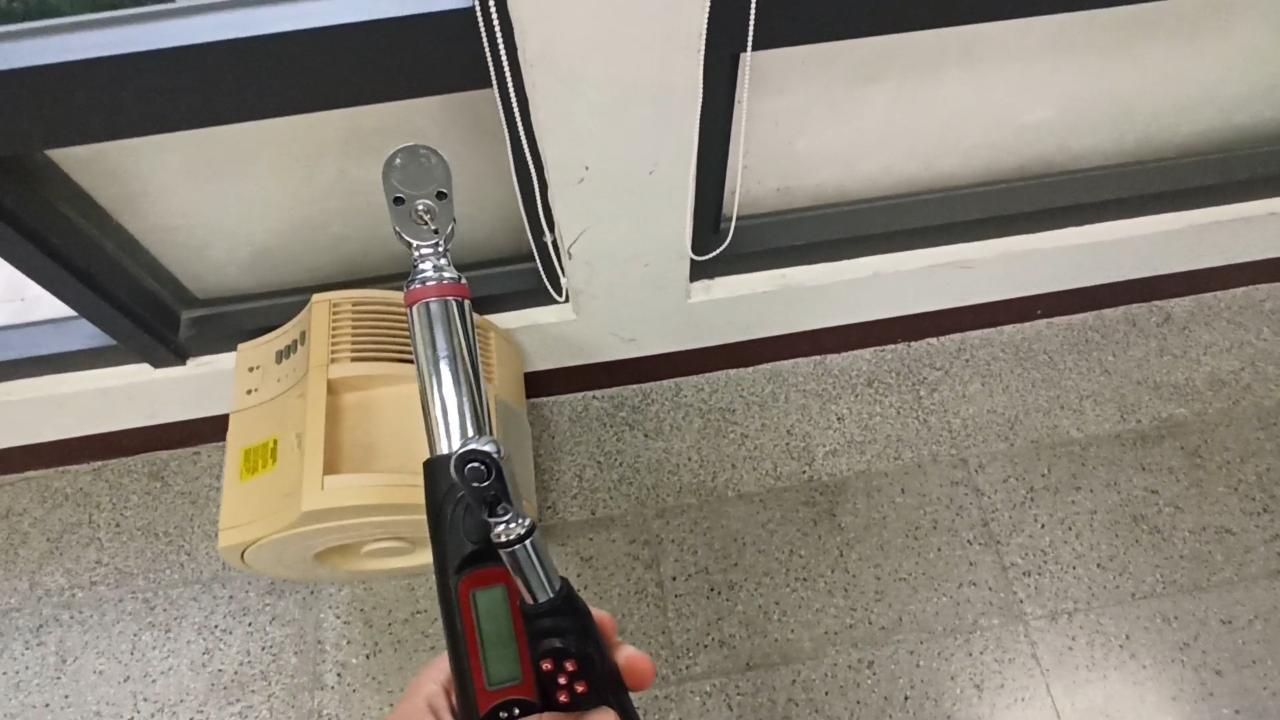Tool: (386, 144, 466, 268), (452, 438, 522, 532)
